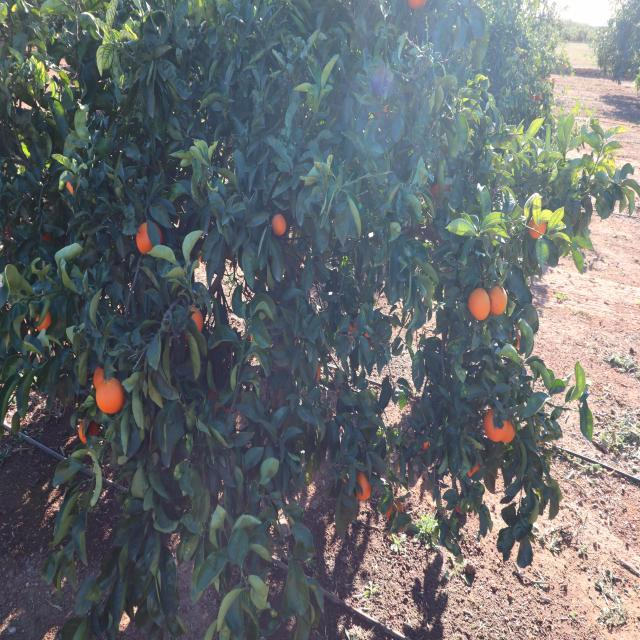Jeruk Sudah Matang: (136, 222, 164, 256), (96, 378, 124, 411), (469, 286, 492, 321), (484, 408, 508, 441), (78, 418, 99, 443), (492, 287, 508, 315), (355, 472, 371, 499), (500, 417, 515, 445), (386, 499, 404, 522), (530, 215, 546, 240), (34, 309, 50, 331), (190, 306, 203, 330), (272, 213, 286, 234), (93, 366, 104, 388), (409, 0, 426, 10)
